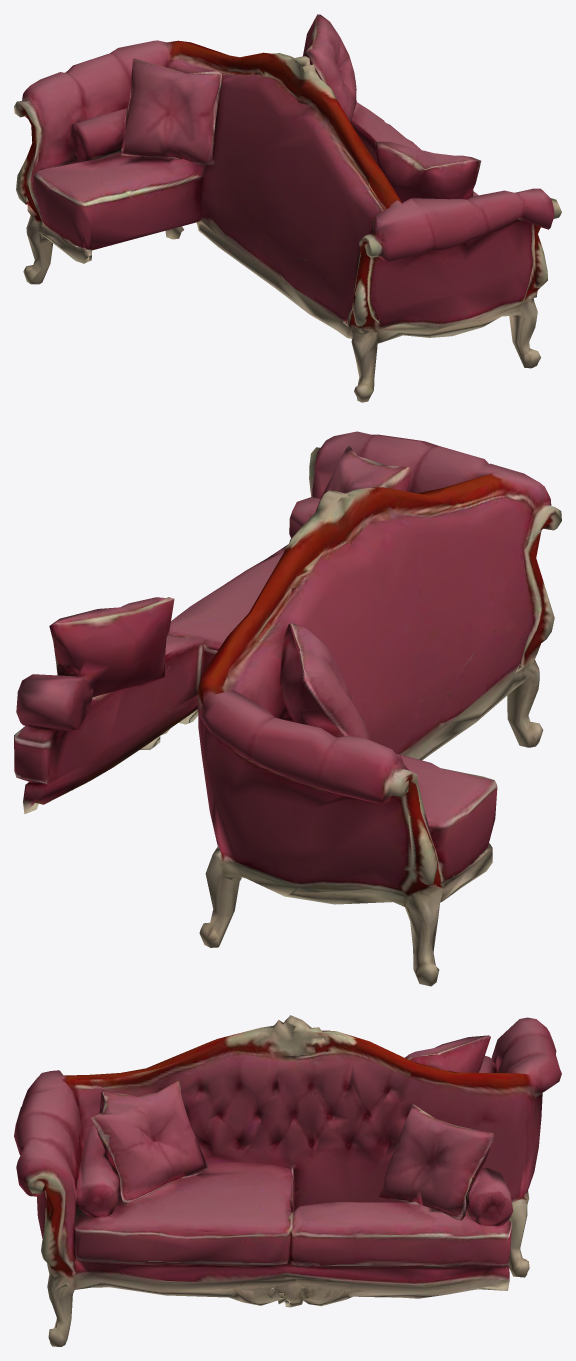
The model's file is au_furn_sofa_imperial.glb.
The picture shows the model from 3 angles, top to bottom: view 1: azimuth 30°, elevation 25°; view 2: azimuth 150°, elevation 25°; view 3: azimuth 270°, elevation 25°; orthographic projection. The views are drawn at different scales.
Visible parts, largest first — view 1: tripo_node_742d7391-894b-44d0-96a7-07e0b6f8589a; view 2: tripo_node_742d7391-894b-44d0-96a7-07e0b6f8589a; view 3: tripo_node_742d7391-894b-44d0-96a7-07e0b6f8589a.
Part boxes in pixels (x1=…): tripo_node_742d7391-894b-44d0-96a7-07e0b6f8589a: x1=14, y1=14, x2=561, y2=402; tripo_node_742d7391-894b-44d0-96a7-07e0b6f8589a: x1=14, y1=431, x2=561, y2=986; tripo_node_742d7391-894b-44d0-96a7-07e0b6f8589a: x1=14, y1=1015, x2=561, y2=1346.
Bounding box in the file's own units: 0.693 × 0.5278 × 0.9798.
1 material, 1 textured.
